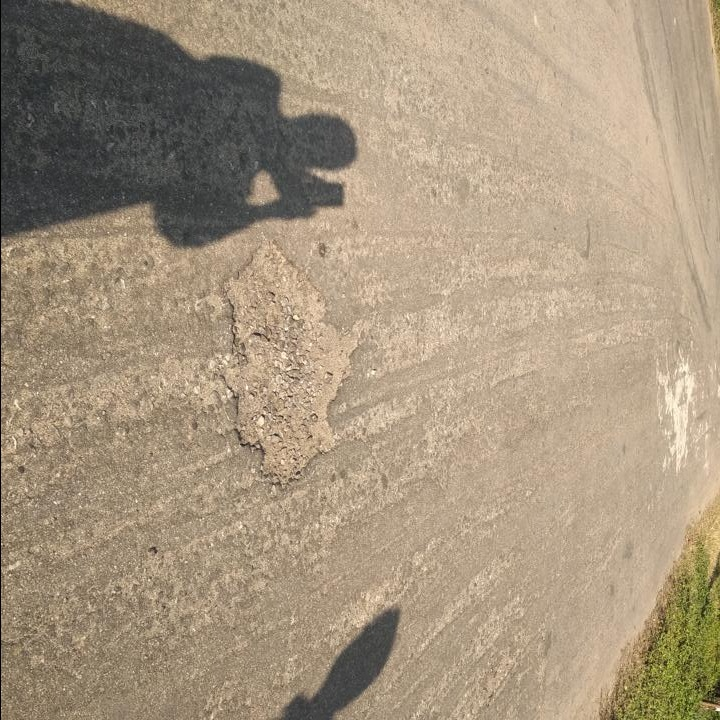pothole: (217, 232, 365, 492)
